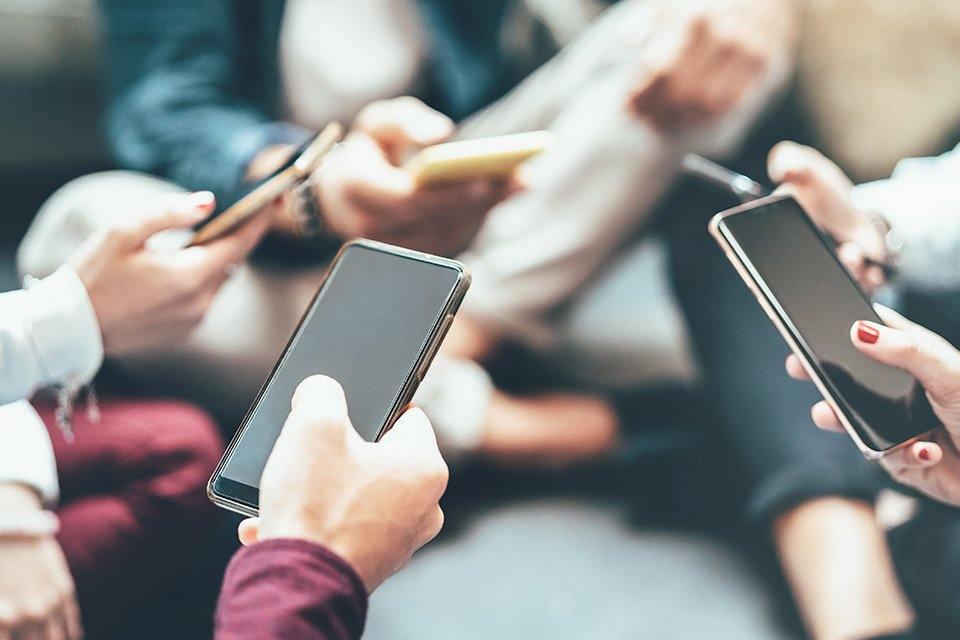phones: (173, 232, 483, 543), (678, 167, 960, 479)
